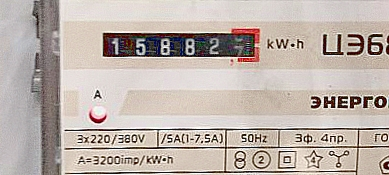1: (108, 35, 121, 54)
2: (207, 36, 220, 55)
5: (133, 36, 146, 56)
7: (232, 43, 244, 57)
8: (158, 35, 171, 57), (183, 36, 196, 57)
screen: (93, 19, 269, 69)
